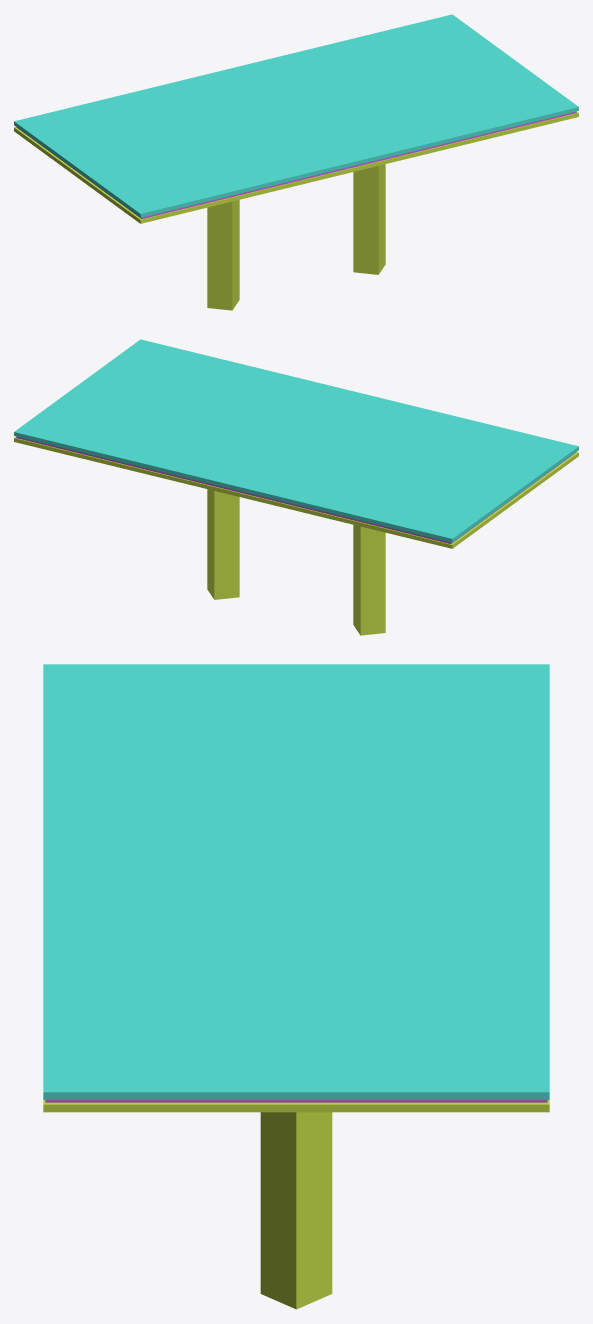
File: Table_02.fbx
3 renders of one model, top to bottom at view 1: azimuth 30°, elevation 25°; view 2: azimuth 150°, elevation 25°; view 3: azimuth 270°, elevation 25°, orthographic. The views are drawn at different scales.
Parts seen in each view (by area): view 1: Table_02; view 2: Table_02; view 3: Table_02.
Part boxes in pixels (<box>): Table_02: <box>14,14,578,310</box>; Table_02: <box>14,339,578,635</box>; Table_02: <box>43,664,549,1309</box>.
Bounding box in the file's own units: 219 × 82.3 × 110.
